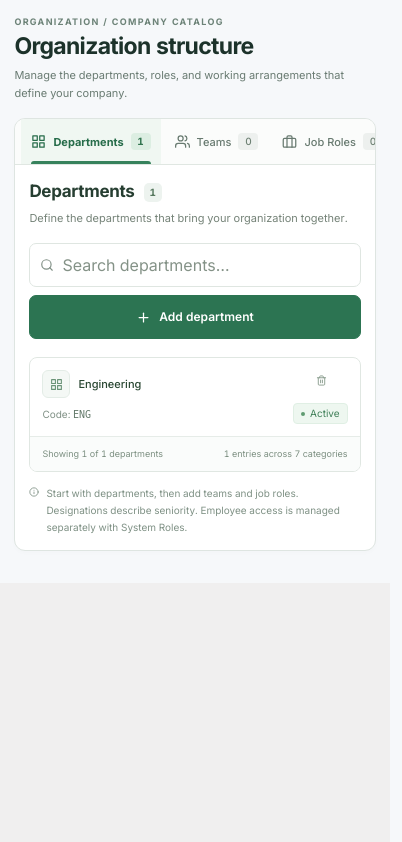
Test: Organization structure catalog › provides a compact add form for Teams
Click the button "Teams 0" at (216, 142), box x1=165 y1=119 x2=268 y2=164
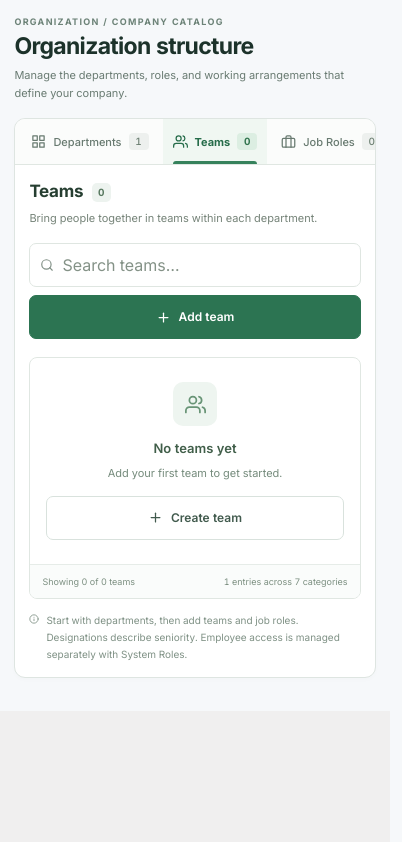
Result: the column heading labelled "name" is gone
Click the button "Add team" at (195, 318), box x1=29 y1=296 x2=361 y2=340
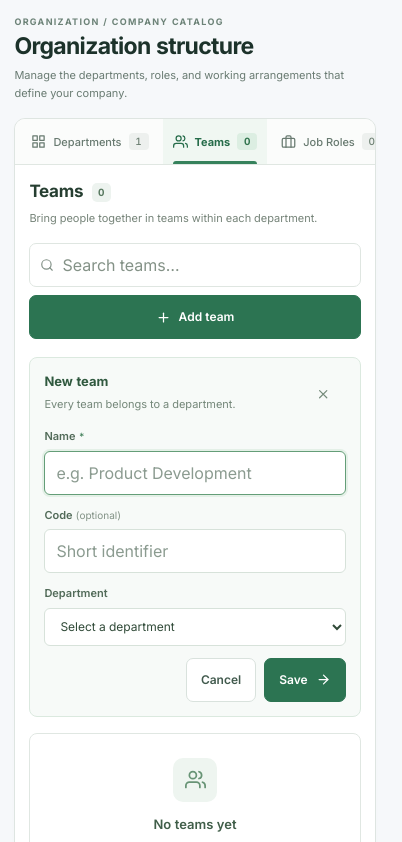
Result: the field labelled "Name *" is shown at x1=44 y1=451 x2=346 y2=495
Click the button "Cancel" at (221, 680), box x1=186 y1=658 x2=256 y2=702
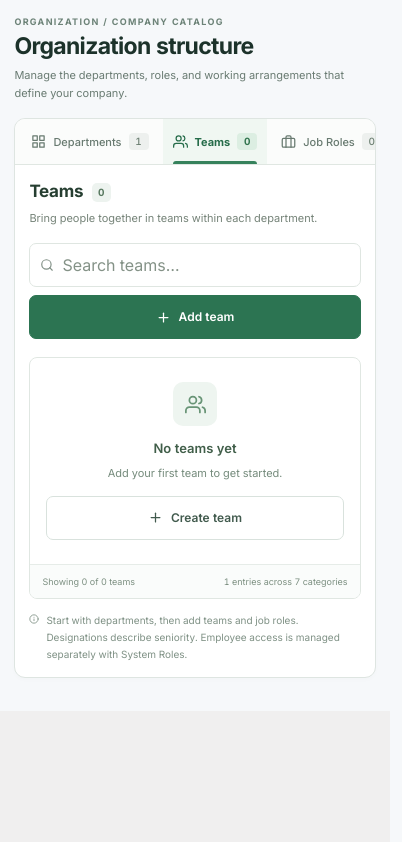
Result: the label labelled "Name" is gone
